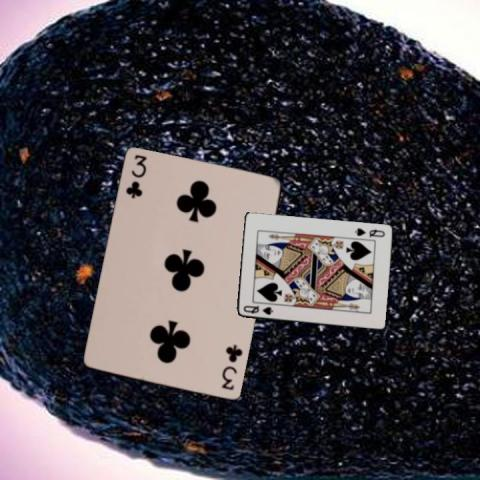3c: (122, 152, 148, 201), (219, 342, 244, 392)
Qs: (352, 225, 386, 239), (240, 303, 274, 316)
